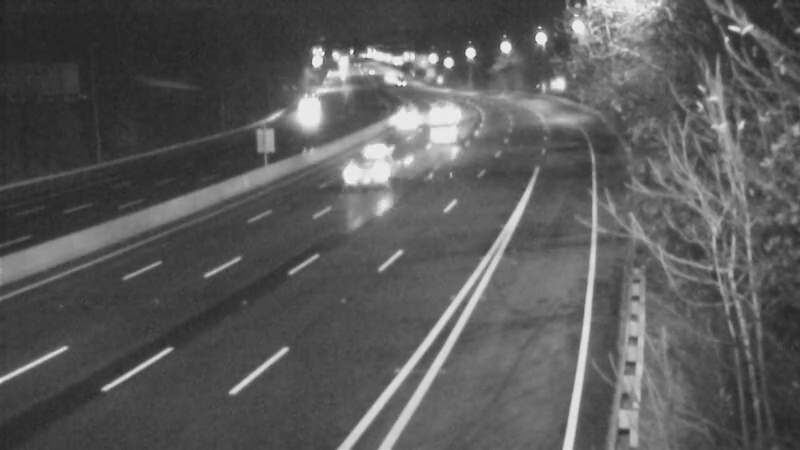vehicle: (335, 125, 415, 205), (374, 56, 424, 106), (416, 87, 466, 137), (386, 95, 436, 145), (419, 109, 469, 159), (281, 90, 331, 140)
